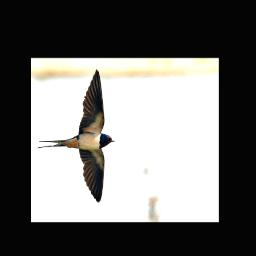Swallow: (36, 67, 115, 206)
